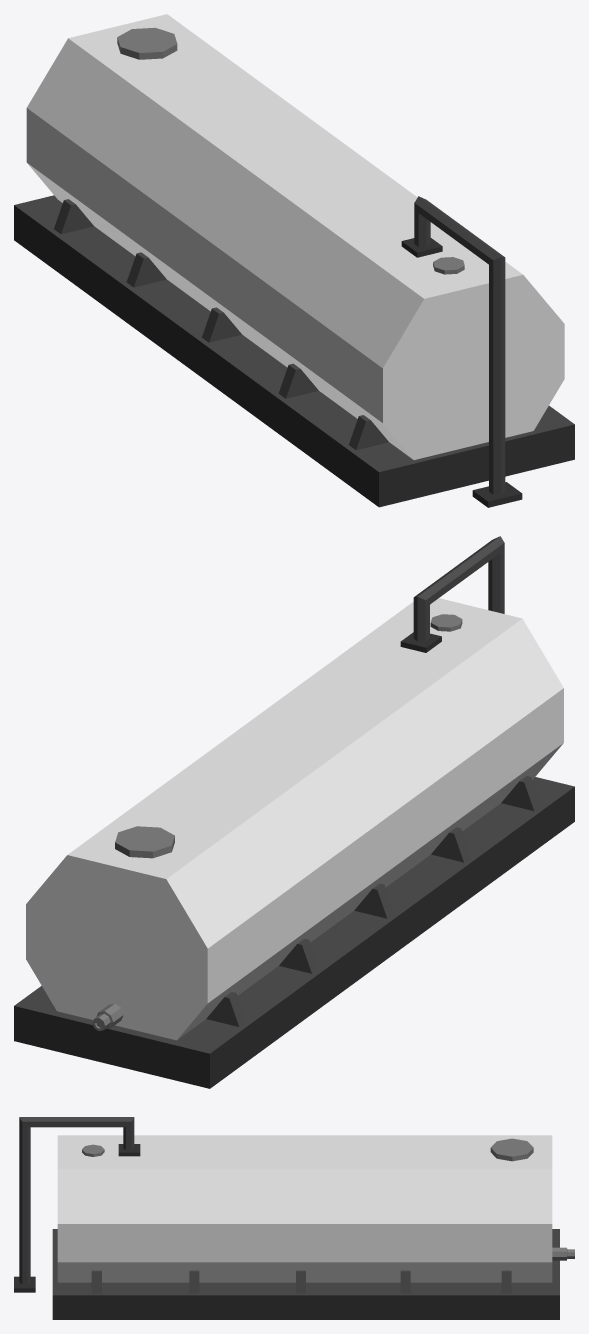
Rendered from Fuel_tank.FBX.
3 views of the same model, one above another, from view 1: azimuth 30°, elevation 25°; view 2: azimuth 150°, elevation 25°; view 3: azimuth 270°, elevation 25° (orthographic). The views are drawn at different scales.
Parts seen in each view (by area): view 1: Fuel_tank; view 2: Fuel_tank; view 3: Fuel_tank.
Part boxes in pixels (x1=…): Fuel_tank: x1=14, y1=14, x2=574, y2=507; Fuel_tank: x1=14, y1=536, x2=574, y2=1088; Fuel_tank: x1=14, y1=1117, x2=574, y2=1319.
Size of the model in its own units: 2.71 by 3.22 by 9.65.
1 material, 1 textured.
